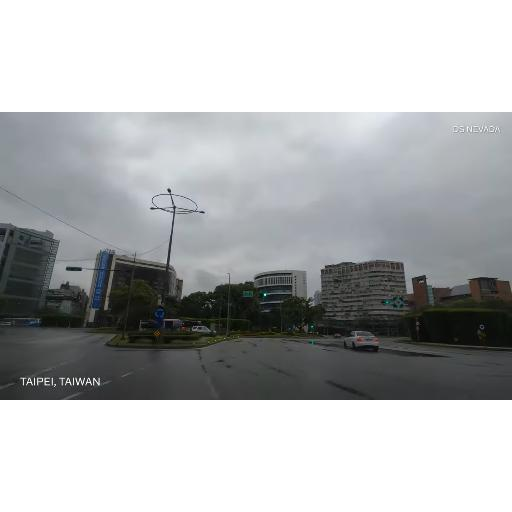Car: (140, 318, 202, 336), (344, 330, 378, 352), (4, 317, 42, 327), (192, 326, 216, 336)
